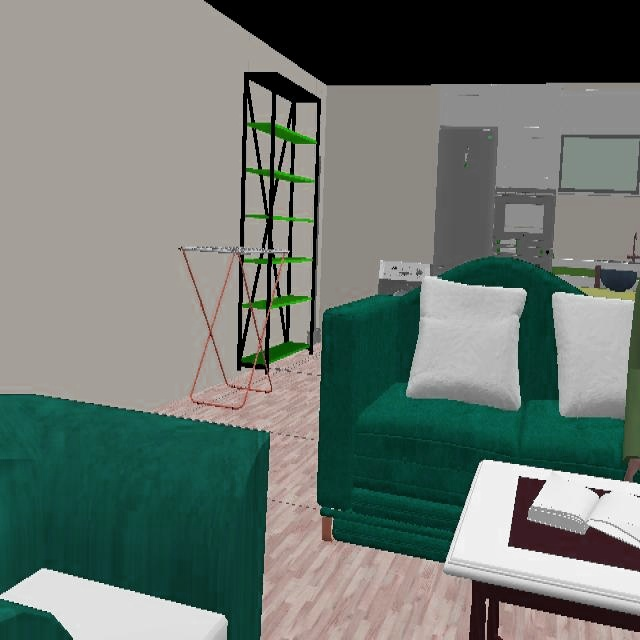cabinet: (439, 84, 640, 189)
fridge: (431, 122, 501, 278)
microwave: (495, 190, 555, 269)
pillow: (406, 277, 527, 411), (551, 292, 629, 420)
shelf: (239, 74, 320, 369)
sofa: (316, 256, 625, 564), (0, 394, 271, 639)
